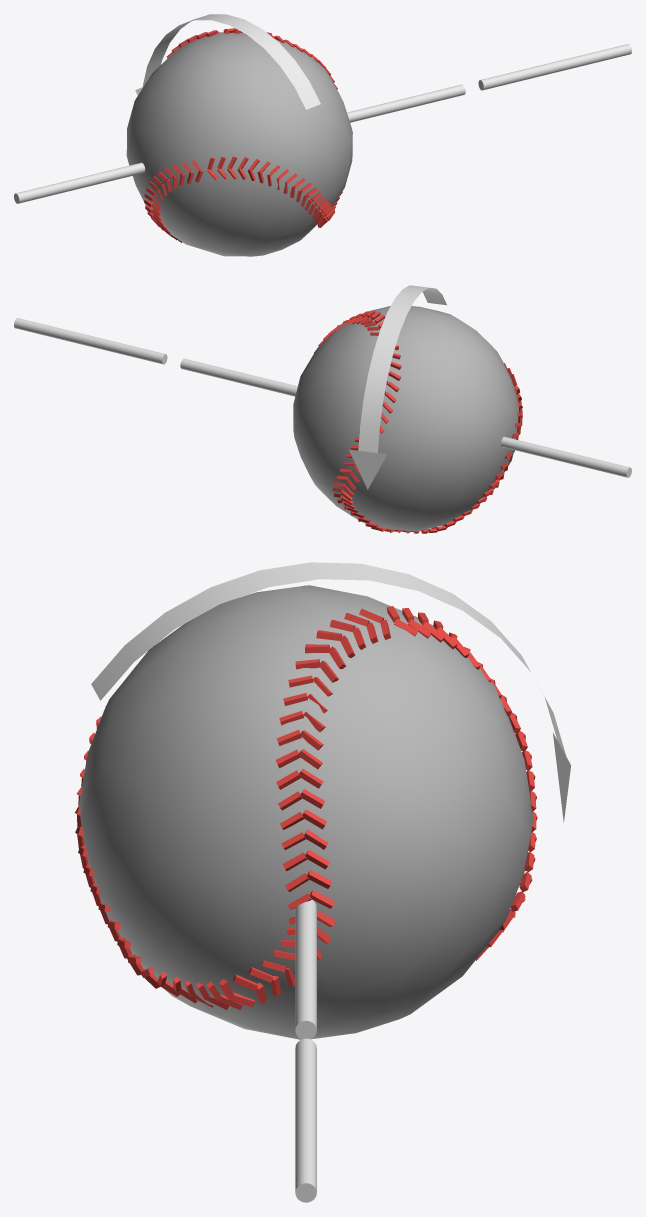
The model's file is BaseballSpinAxis.fbx.
The picture shows the model from 3 angles, top to bottom: view 1: azimuth 30°, elevation 25°; view 2: azimuth 150°, elevation 25°; view 3: azimuth 270°, elevation 25°; orthographic projection. The views are drawn at different scales.
Visible parts, largest first — view 1: Baseball, Rotation Axis, Sphere, Stitches 1, Velocity, Stitches 2; view 2: Baseball, Sphere, Rotation Axis, Stitches 2, Velocity, Stitches 1; view 3: Baseball, Stitches 1, Sphere, Velocity, Stitches 2, Rotation Axis.
Boxes of the visible parts, x1,y1,x2,y2 form: Baseball: [126, 32, 352, 256]; Rotation Axis: [14, 84, 465, 203]; Sphere: [135, 14, 320, 109]; Stitches 1: [207, 28, 342, 227]; Velocity: [478, 44, 631, 90]; Stitches 2: [144, 30, 219, 242]; Baseball: [293, 306, 518, 531]; Sphere: [349, 285, 446, 489]; Rotation Axis: [180, 358, 631, 477]; Stitches 2: [332, 345, 522, 533]; Velocity: [14, 318, 167, 364]; Stitches 1: [314, 310, 517, 390]; Baseball: [78, 585, 533, 1039]; Stitches 1: [75, 608, 390, 1009]; Sphere: [91, 562, 570, 822]; Velocity: [295, 1038, 316, 1202]; Stitches 2: [387, 606, 537, 960]; Rotation Axis: [295, 585, 316, 1039].
Size of the model in its own units: 6.01 by 2.09 by 2.11.
